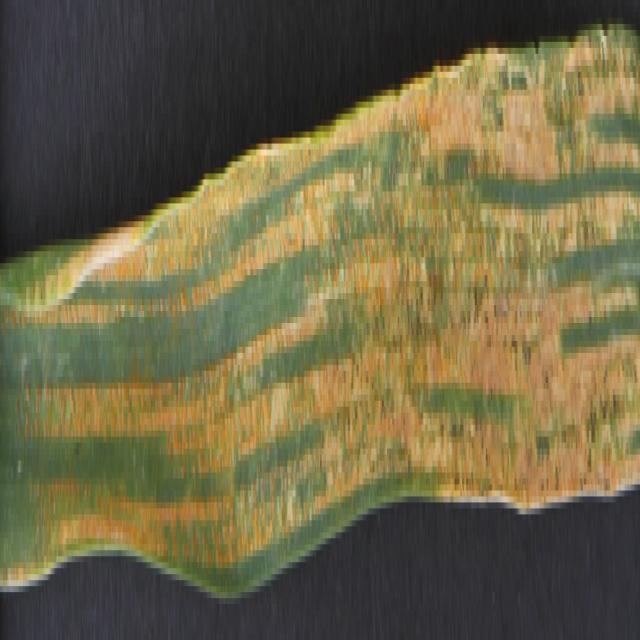leaf rust: (29, 29, 640, 562)
